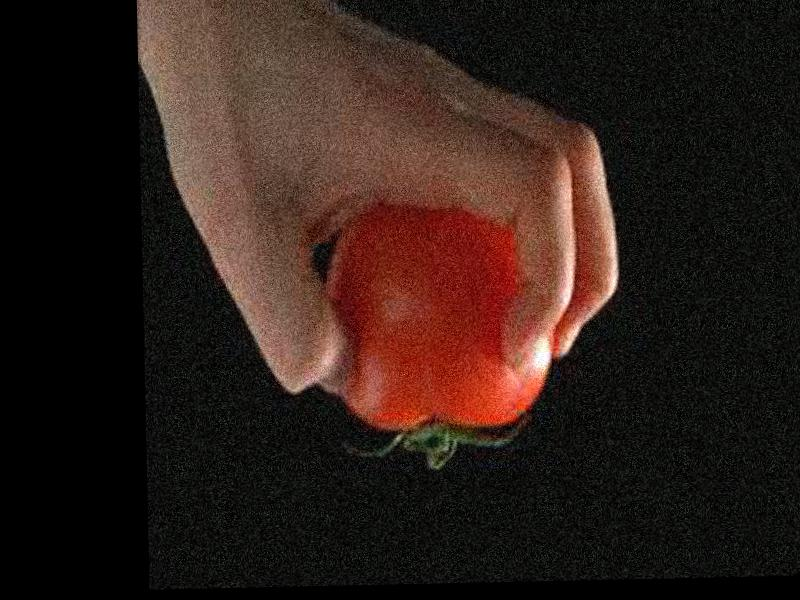Tomato: (325, 208, 553, 467)
